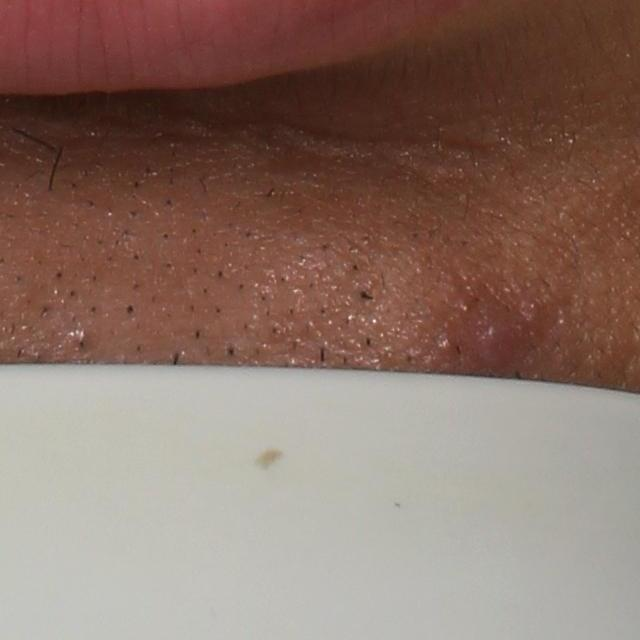papule: (475, 323, 518, 364)
